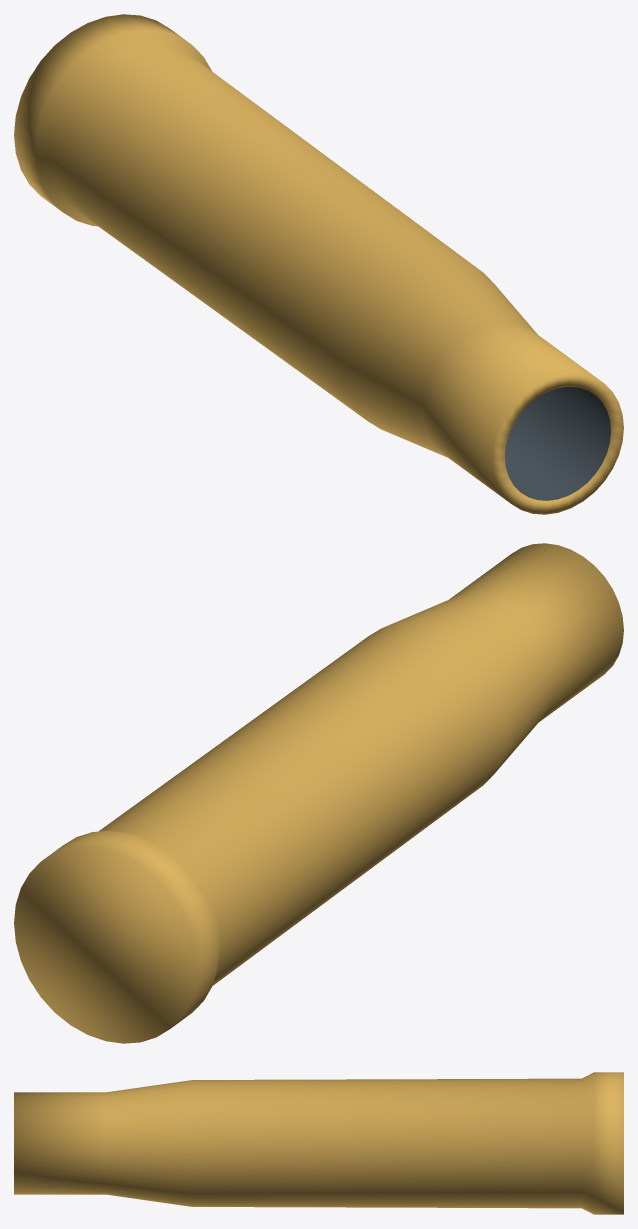
Rendered from rotor_light_case_display.glb.
The picture shows the model from 3 angles, top to bottom: view 1: azimuth 30°, elevation 25°; view 2: azimuth 150°, elevation 25°; view 3: azimuth 270°, elevation 25°; orthographic projection. The views are drawn at different scales.
Visible parts, largest first — view 1: AMMO_MESH.005; view 2: AMMO_MESH.005; view 3: AMMO_MESH.005.
Boxes of the visible parts, <box> form: AMMO_MESH.005: <box>14,14,623,514</box>; AMMO_MESH.005: <box>14,543,623,1043</box>; AMMO_MESH.005: <box>14,1072,623,1214</box>.
Bounding box in the file's own units: 0.0096 × 0.0096 × 0.041.
